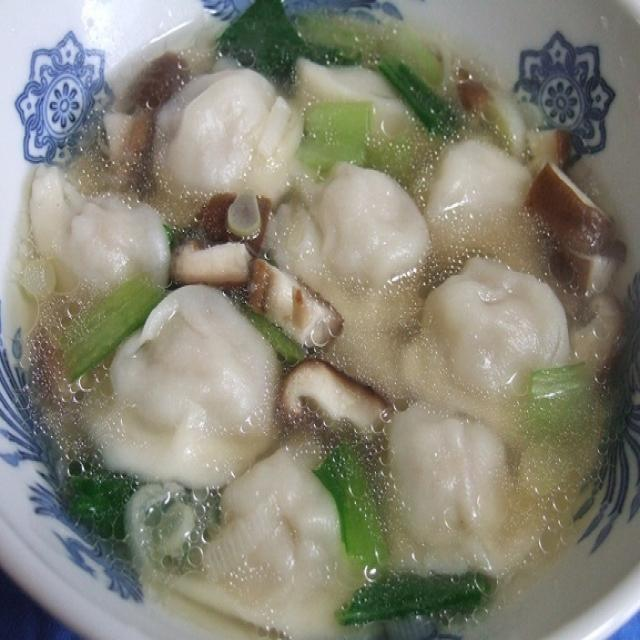带馅早点: (21, 15, 621, 625)
